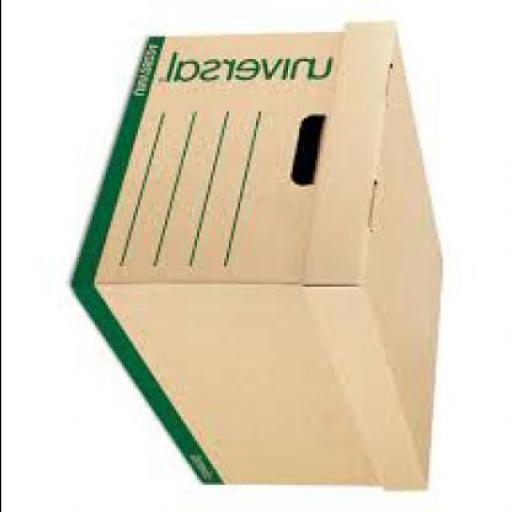cardboard: (70, 25, 444, 494)
